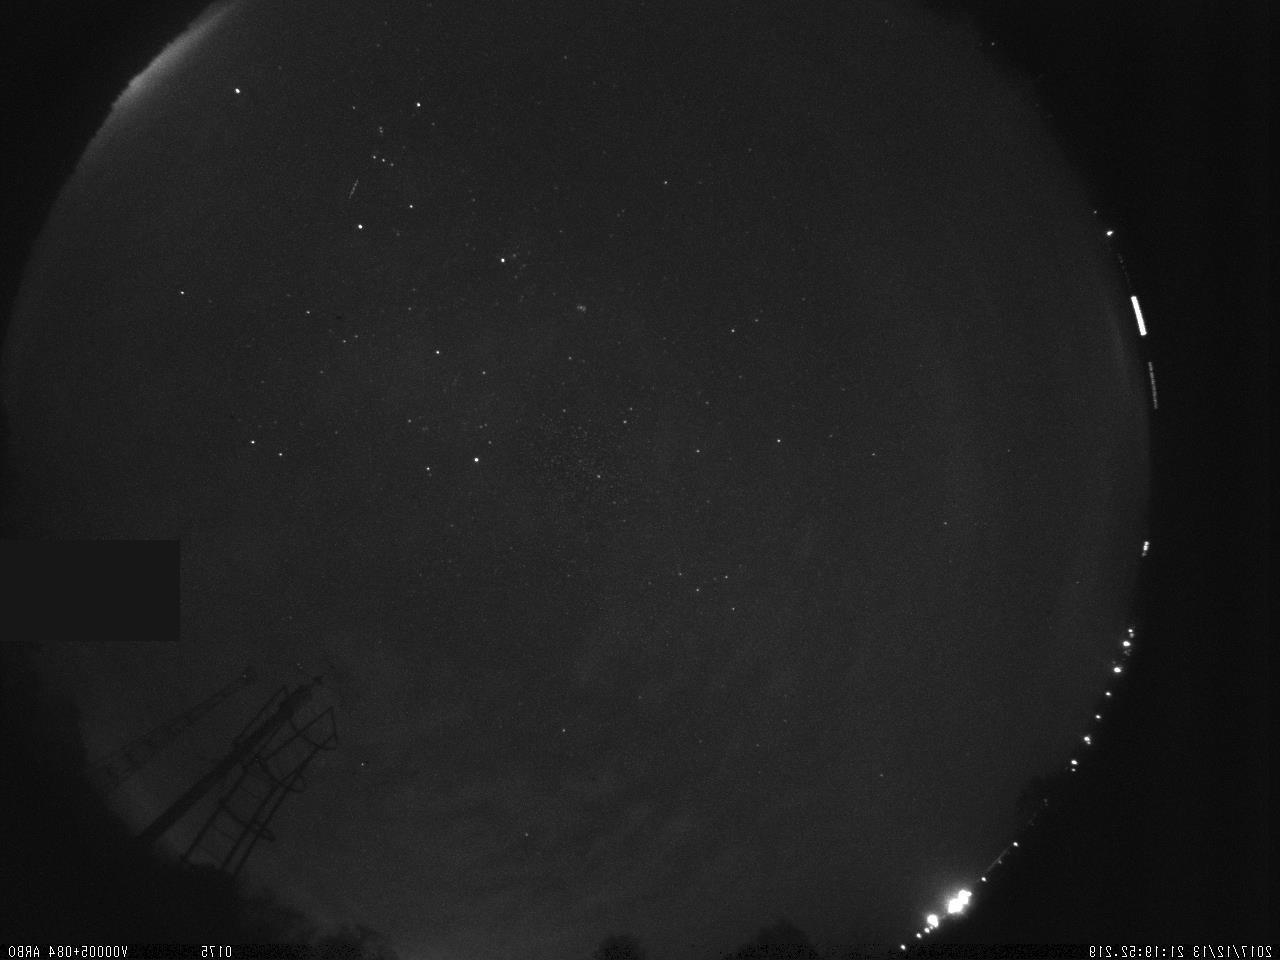meteor: (350, 142, 413, 174)
